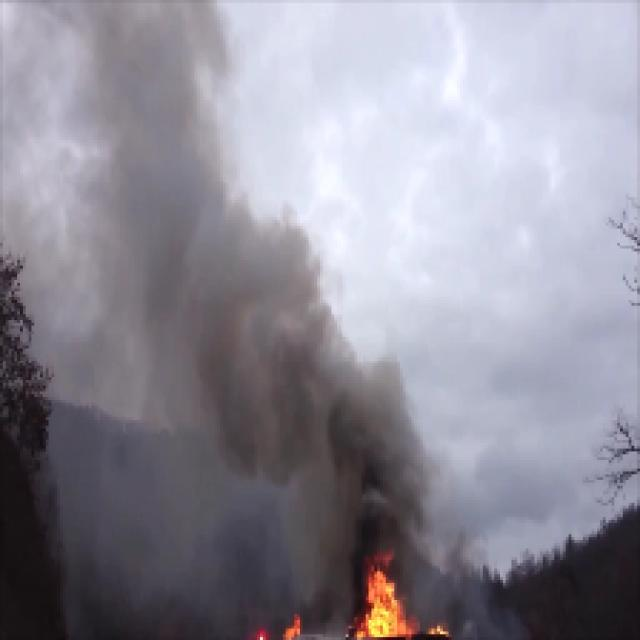fire: (358, 559, 413, 640)
smoke: (18, 0, 241, 613), (252, 222, 420, 537)
